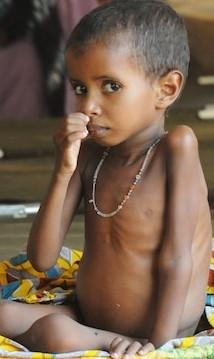Stunting: (38, 2, 213, 163)
